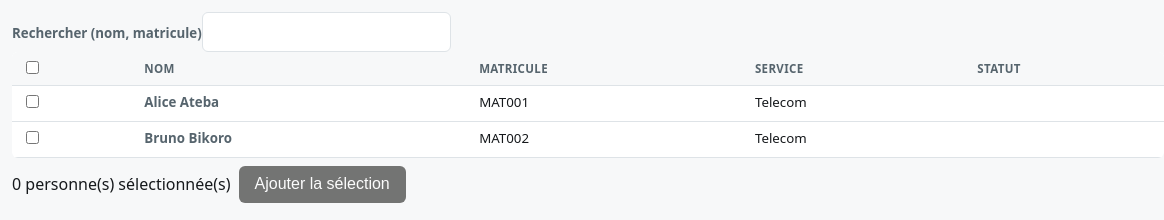
Test: SelectionPersonnesABord › « tout sélectionner » ne coche que le resultat filtre par la recherche
This screenshot has width=1164, height=220.
Check: the text "Alice Ateba" is shown, box [144,93,219,111]
In the field named "Rechercher une personne par nom ou matricule": {"x": 326, "y": 32} [202,12,451,52], type "Alice"
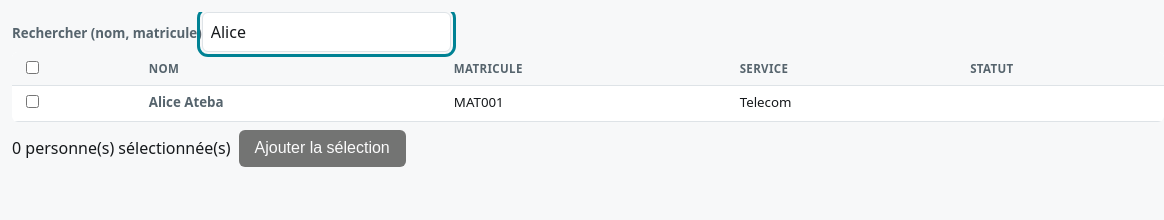
Check: the text "Bruno Bikoro" is gone
Click the checkbox named "Tout sélectionner": {"x": 32, "y": 68} [26,61,39,74]
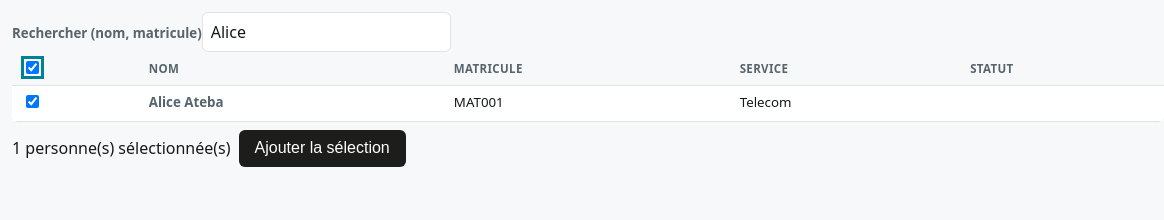
Check: the text "1 personne(s) sélectionnée(s)" is shown, box [12,136,231,160]
